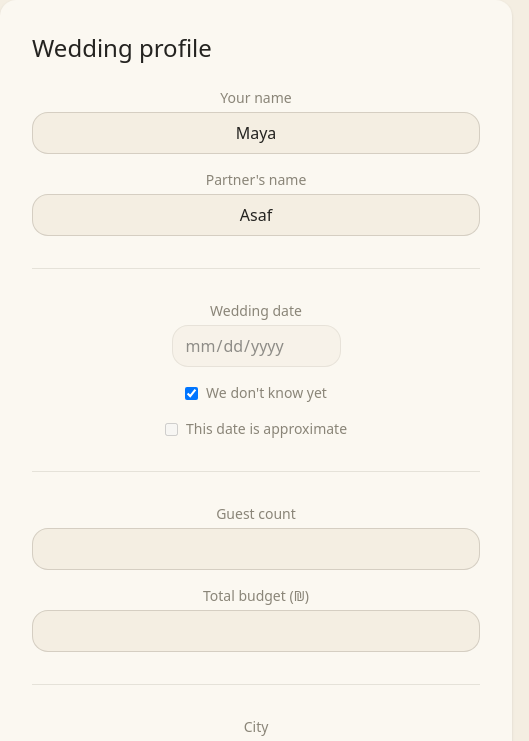
Test: EditWeddingForm › saves an edited field via updateWeddingProfile and shows a confirmation
Replace the text in the field labelled "Your name" with "Maya Cohen": (256,133) [32, 112, 480, 154]
(page scrolled)
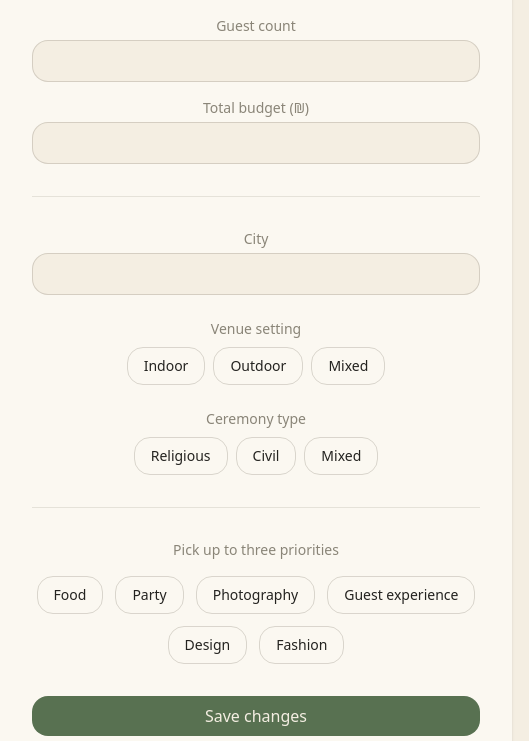
Click the button "Save changes": (256,716) [32, 696, 480, 736]
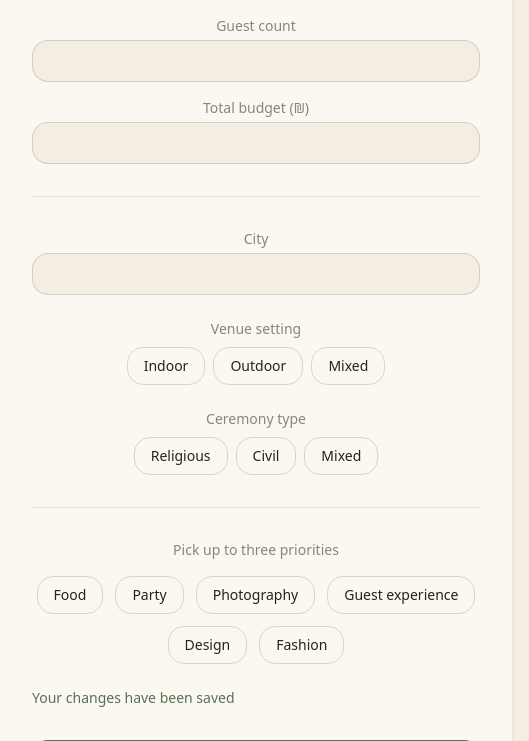
Expected: the text "Your changes have been saved" is shown, [32, 688, 234, 707]
